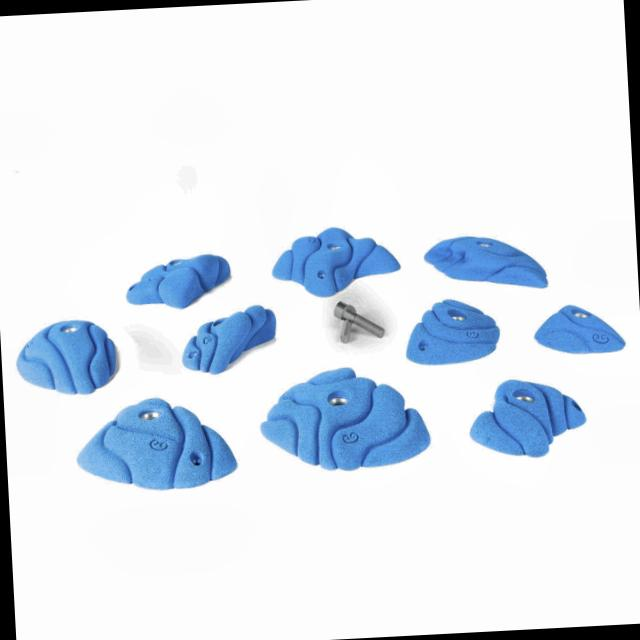Hold: (258, 365, 434, 470), (78, 388, 237, 491), (467, 376, 592, 464), (272, 222, 404, 296), (15, 314, 119, 398), (426, 228, 546, 297), (180, 301, 280, 377), (404, 297, 506, 367), (119, 243, 232, 306), (533, 302, 629, 361)
